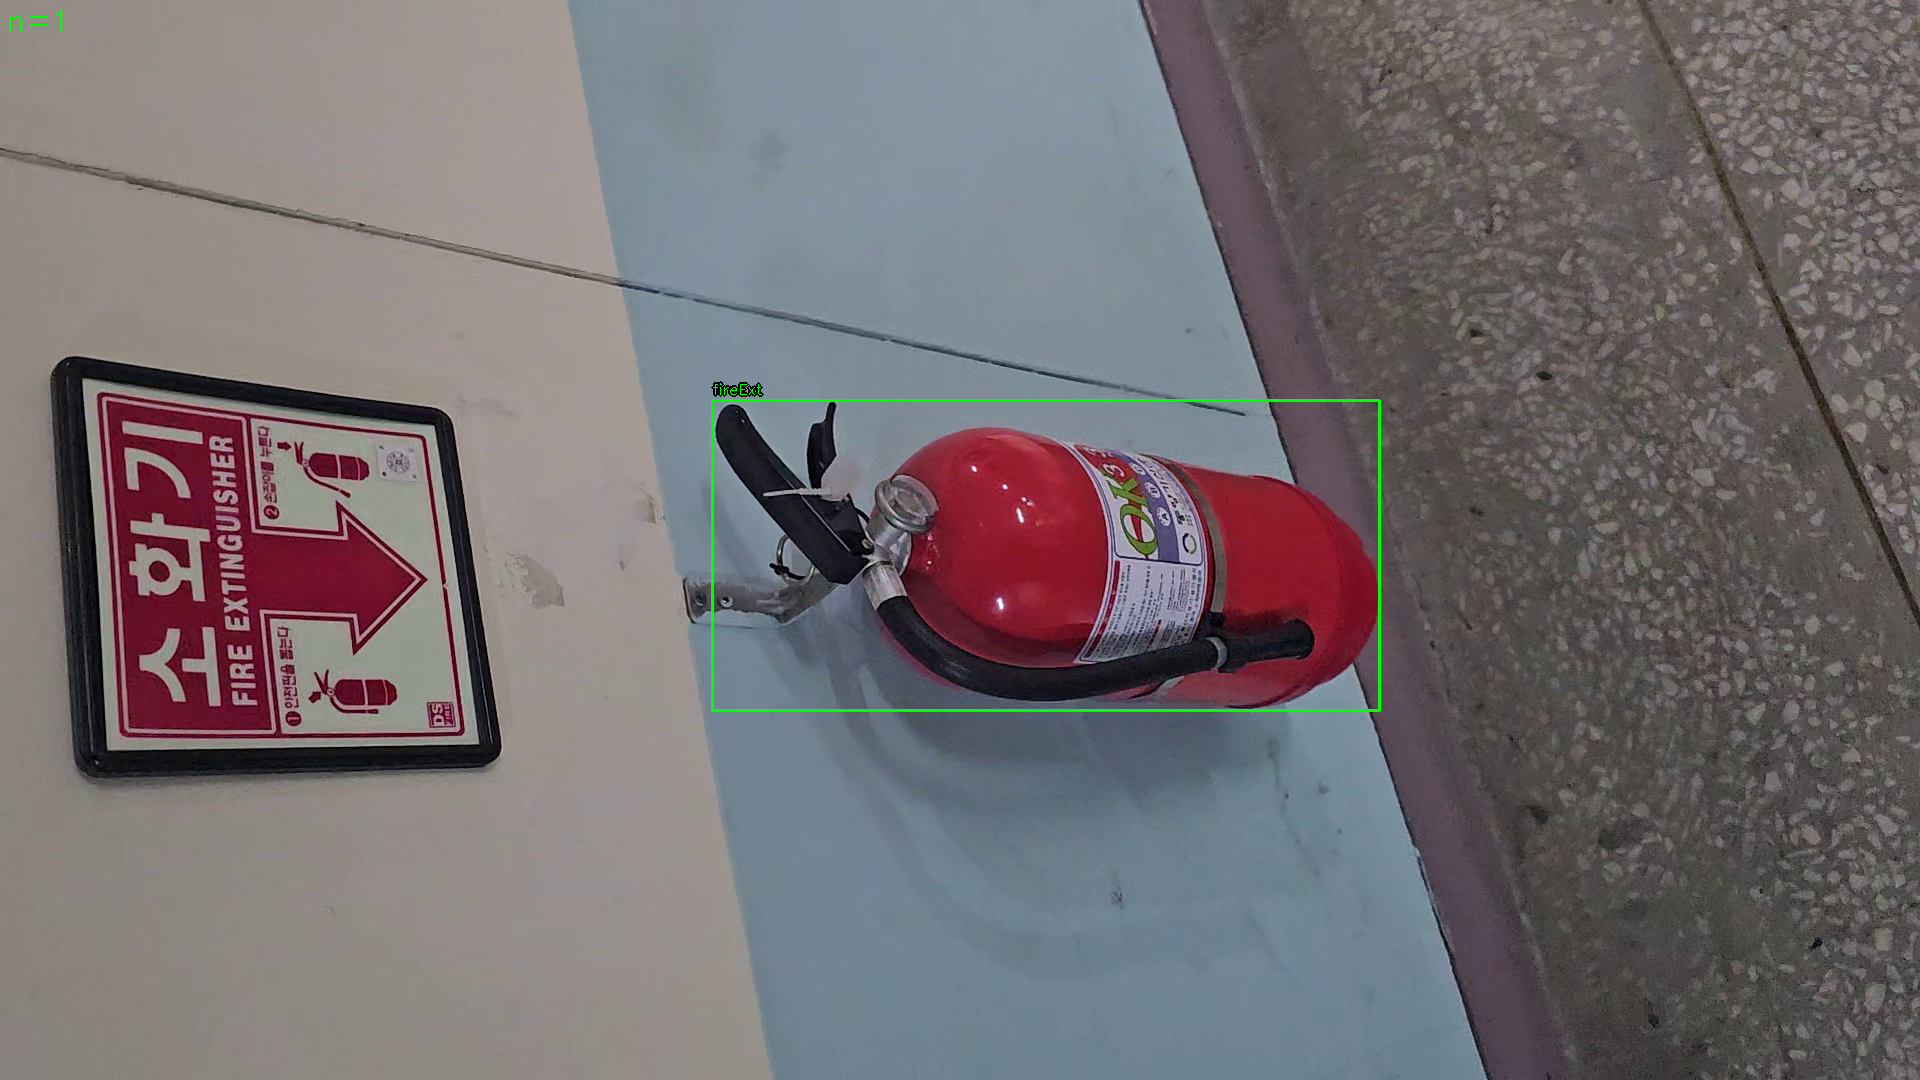lane: (712, 400, 1381, 711)
